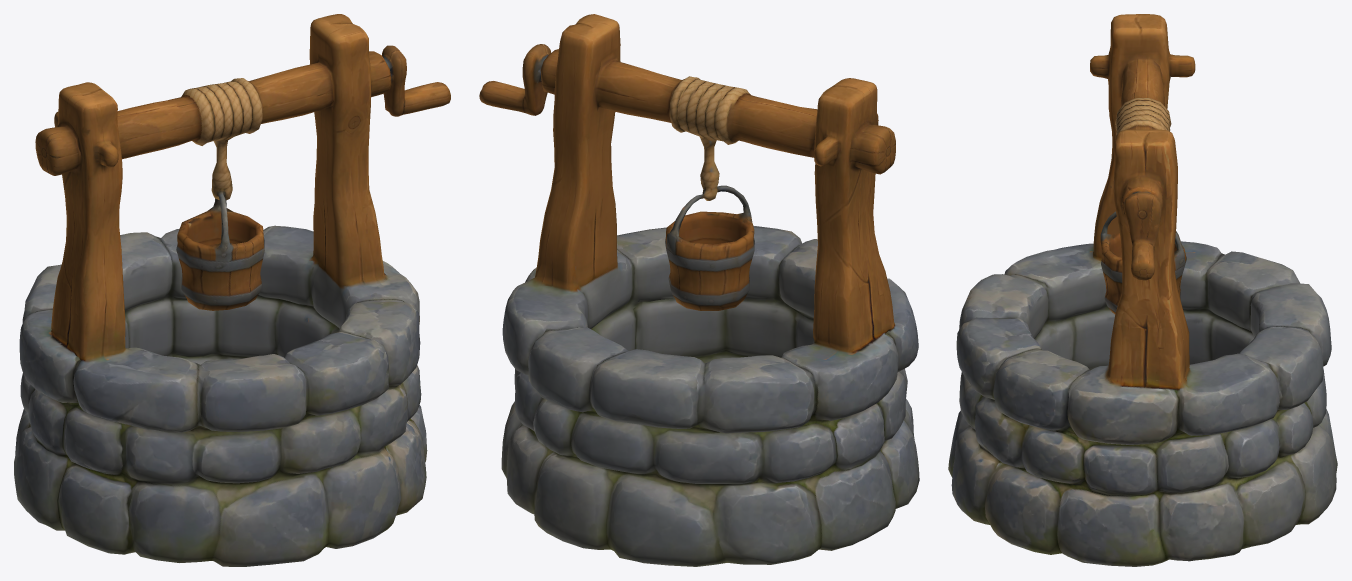
File: village_well.glb
3 views of the same model, side by side, from view 1: azimuth 30°, elevation 25°; view 2: azimuth 150°, elevation 25°; view 3: azimuth 270°, elevation 25° (orthographic). The views are drawn at different scales.
Parts seen in each view (by area): view 1: tripo_node_eea67db5; view 2: tripo_node_eea67db5; view 3: tripo_node_eea67db5.
Part boxes in pixels (x1,y1,x2,y2): tripo_node_eea67db5: [14, 14, 450, 566]; tripo_node_eea67db5: [479, 14, 919, 566]; tripo_node_eea67db5: [948, 14, 1337, 566].
Size of the model in its own units: 96.77 by 97.72 by 84.44.
1 material, 1 textured.
